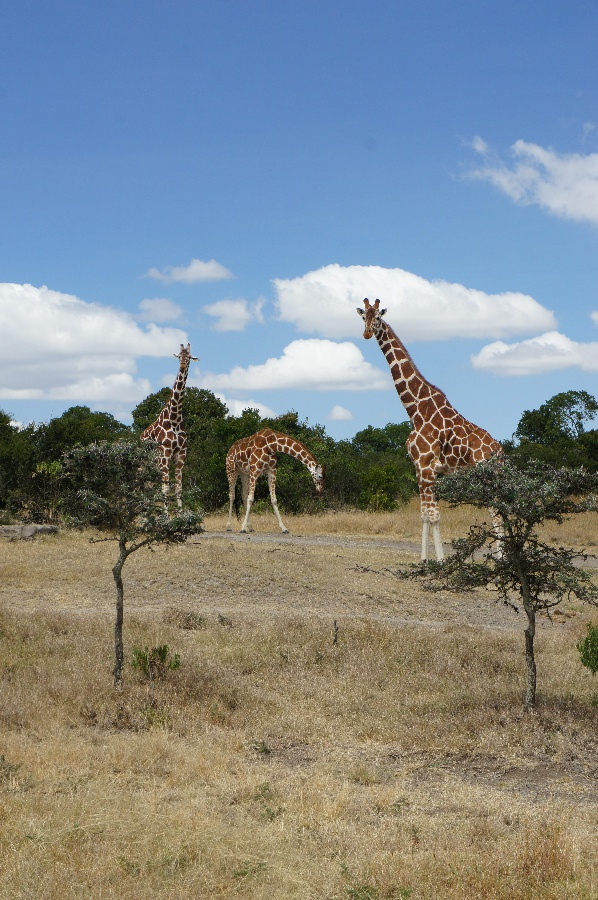giraffe: (355, 291, 525, 582), (125, 339, 207, 538), (219, 424, 330, 540)
